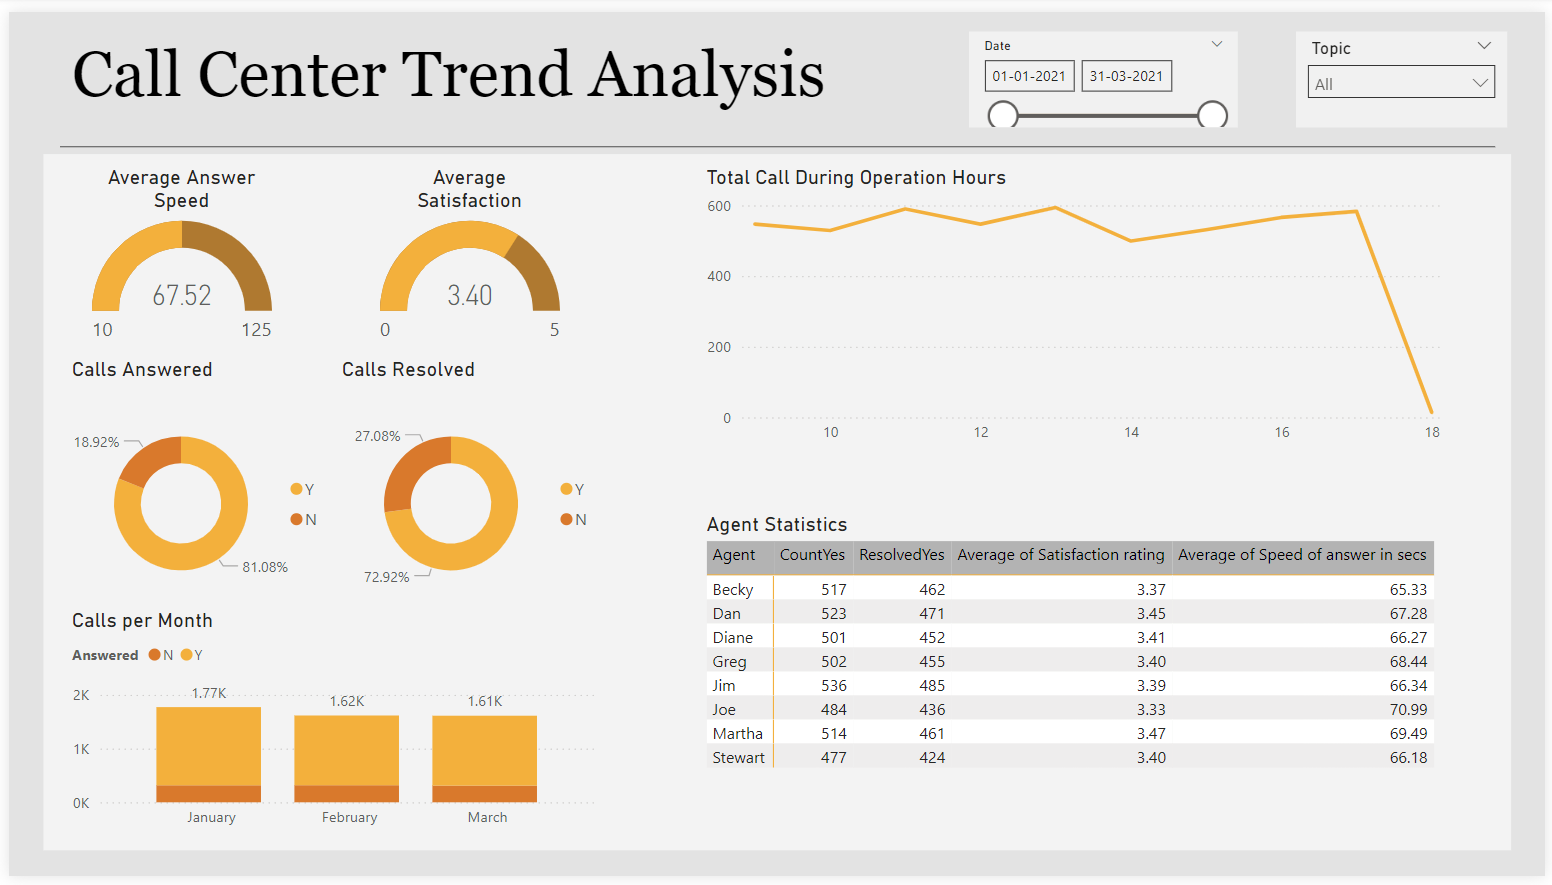

The page's visual inventory and layout, read from the dashboard file:
{"tool":"powerbi","page":{"name":"Call Center Trend Analysis Dasboard","canvas":[1280,720],"ordinal":0},"visuals":[{"type":"basicShape","box":[32,96,1216,32],"z":0},{"type":"basicShape","box":[16,112,1248,592],"z":1000},{"type":"gauge","title":"Average Satisfaction","fields":{"Y":["Sheet1.Satisfaction rating"],"MaxValue":["Sum(Sheet1.Satisfaction rating)1"]},"box":[304,128,160,160],"z":2000},{"type":"donutChart","title":"Calls Answered","fields":{"Y":["Sheet1.Answered (Y/N)"],"Category":["Sheet1.Answered (Y/N)"]},"box":[48,288,224,224],"z":3000},{"type":"lineChart","title":"Total Call During Operation Hours","fields":{"Category":["Sheet1.Hour"],"Y":["Sheet1.Call Id"]},"box":[576,128,624,240],"z":4000},{"type":"gauge","title":"Average Answer Speed","fields":{"Y":["Sheet1.Speed of answer in secs"],"MaxValue":["Sheet1.Speed of answer in secs"],"MinValue":["Sum(Sheet1.Speed of answer in secs)1"]},"box":[64,128,160,160],"z":5000},{"type":"donutChart","title":"Calls Resolved","fields":{"Y":["Sheet1.Resolved"],"Category":["Sheet1.Resolved"]},"box":[272,288,224,224],"z":6000},{"type":"columnChart","title":"Calls per Month","fields":{"Category":["Sheet1.Date.Variation.Date Hierarchy.Month"],"Series":["Sheet1.Answered (Y/N)"],"Y":["Sheet1.Call Id"]},"box":[48,496,448,192],"z":7000},{"type":"pivotTable","title":"Agent Statistics","fields":{"Rows":["Sheet1.Agent"],"Values":["Sheet1.CountYes","Sheet1.ResolvedYes","Sheet1.Satisfaction rating","Sheet1.Speed of answer in secs"]},"box":[576,416,624,272],"z":8000},{"type":"slicer","fields":{"Values":["Sheet1.Date"]},"box":[800,16,224,80],"z":9000},{"type":"slicer","fields":{"Values":["Sheet1.Topic"]},"box":[1072,16,176,80],"z":10000},{"type":"textbox","box":[48,16,672,80],"z":11000}]}

Visuals, with their boxes in screenshot pixels (x1, y1, x2, y2), scaled from the page's 1280x720 canvas onto the 1552x885 screenshot:
basicShape: 39:118:1513:157
basicShape: 19:138:1533:865
"Average Satisfaction" gauge: 369:157:563:354
"Calls Answered" donutChart: 58:354:330:629
"Total Call During Operation Hours" lineChart: 698:157:1455:452
"Average Answer Speed" gauge: 78:157:272:354
"Calls Resolved" donutChart: 330:354:601:629
"Calls per Month" columnChart: 58:610:601:846
"Agent Statistics" pivotTable: 698:511:1455:846
slicer - Sheet1.Date: 970:20:1242:118
slicer - Sheet1.Topic: 1300:20:1513:118
textbox: 58:20:873:118
